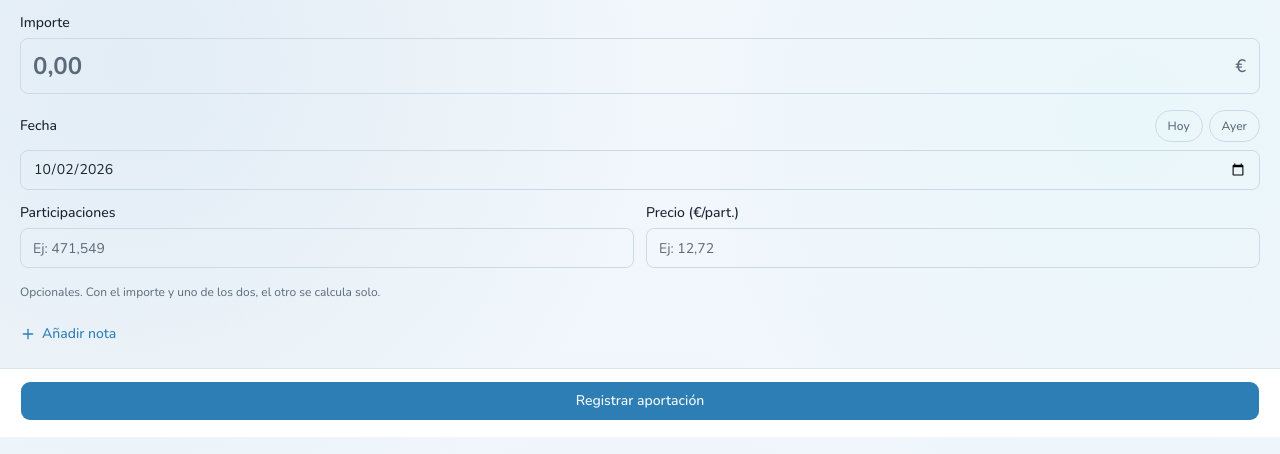
Test: ContributionForm › warns when units × price don't match the amount
Type "1000" into the field labelled "Importe" at point(640, 66), box [20,38,1260,94]
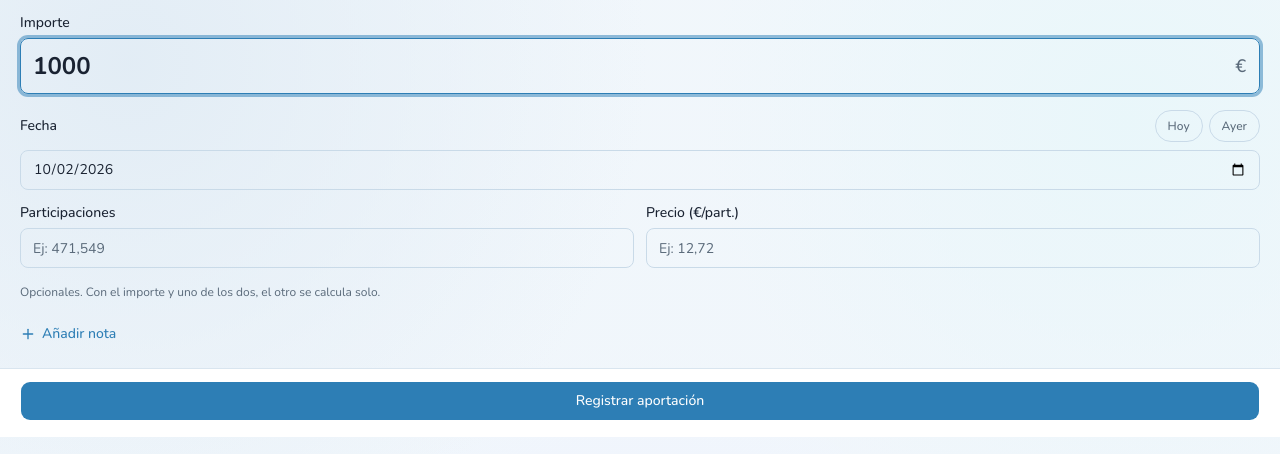
Type "10" into the field labelled "Precio (€/part.)" at point(953, 248), box [646,228,1260,268]
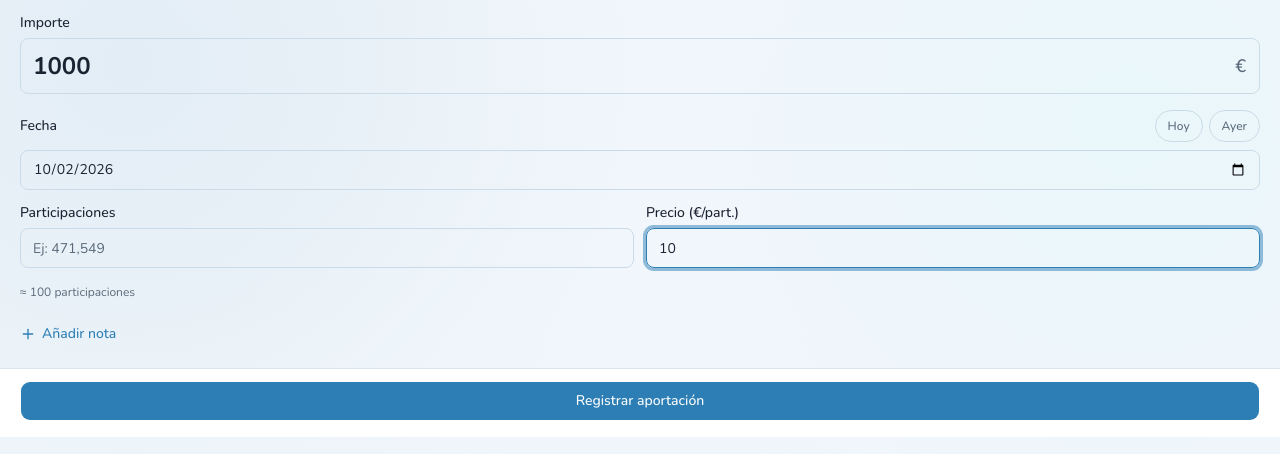
Type "50" into the field labelled "Participaciones" at point(327, 248), box [20,228,634,268]
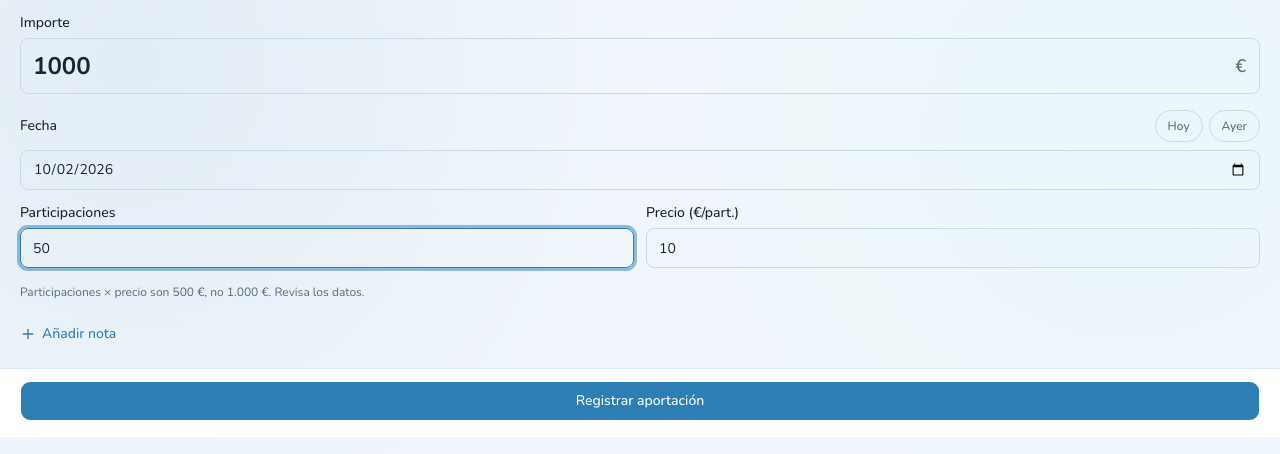
Result: the text "Revisa los datos" is shown at [20,284,364,300]
